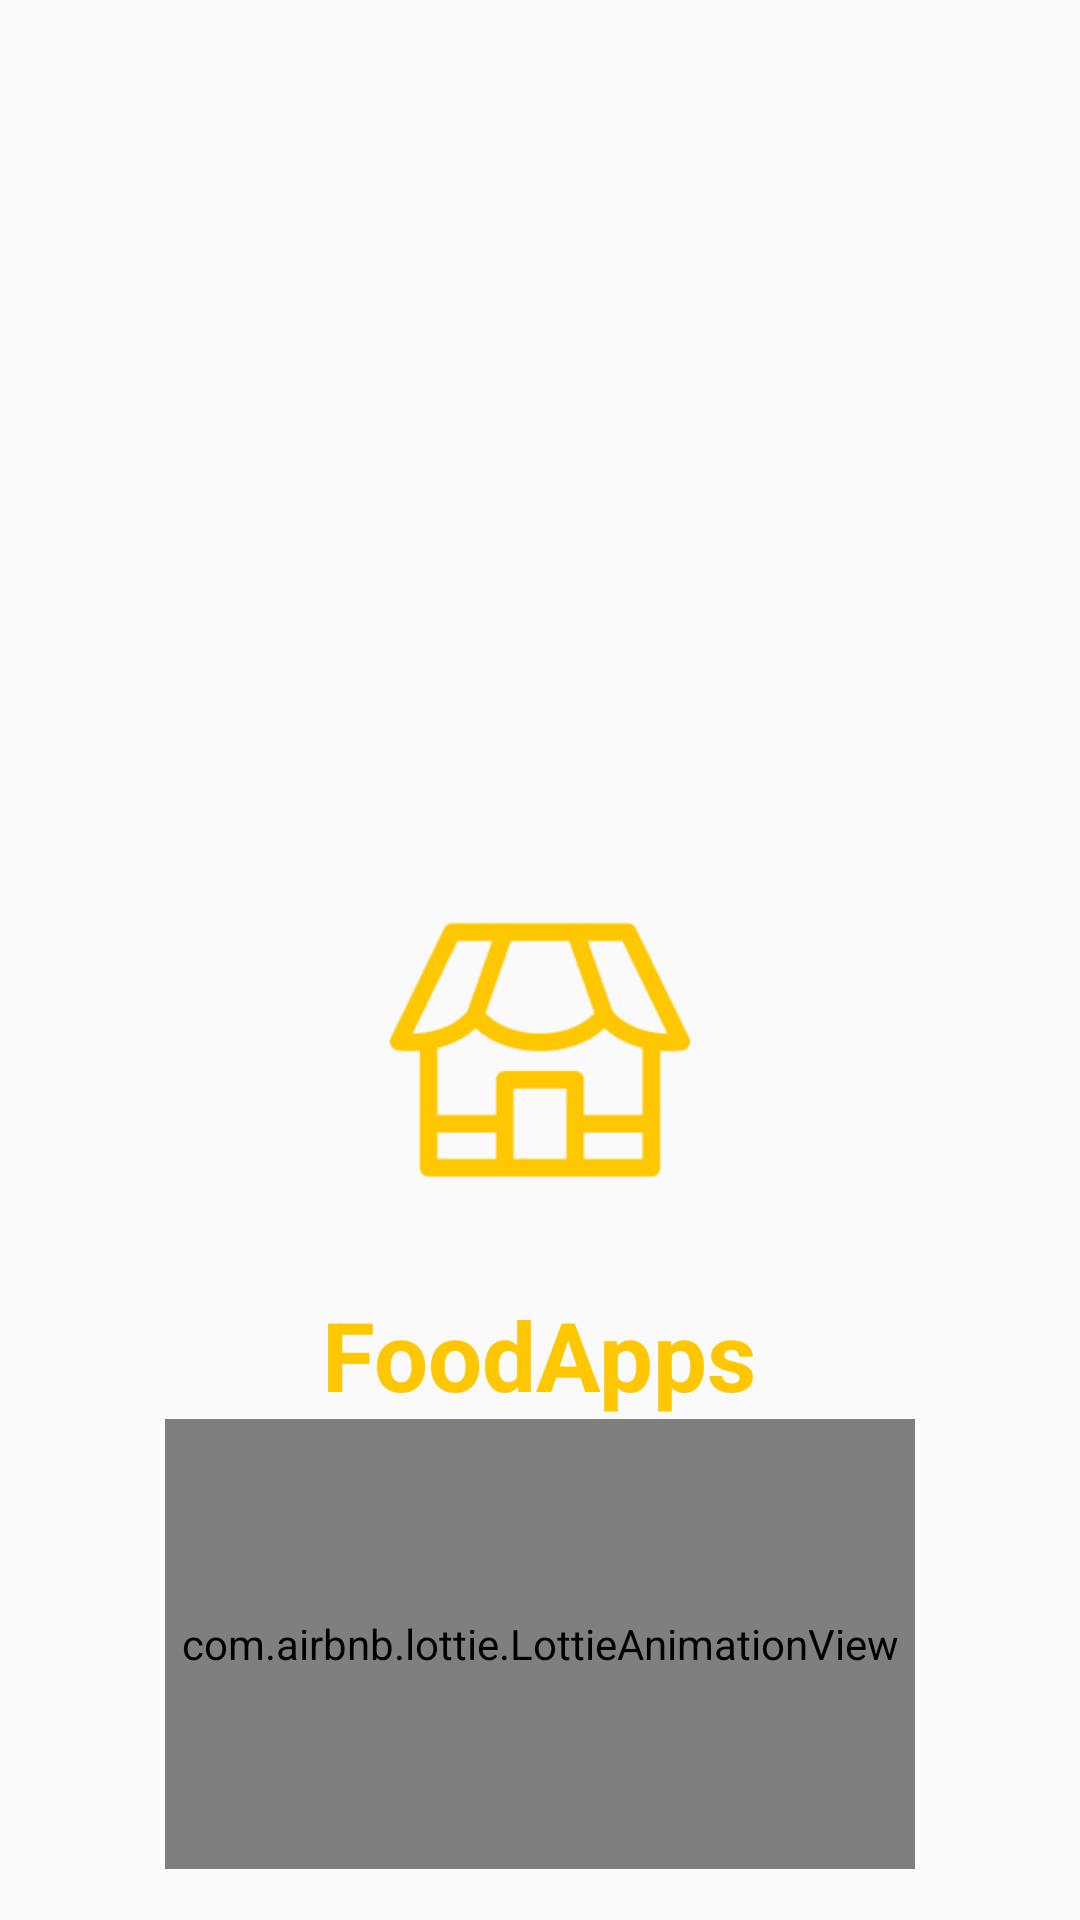

Locate icon controls on the screen. Image size 1080 × 1920, boxes as (x1, y1, x2, y2).
store: (390, 922, 690, 1178)
